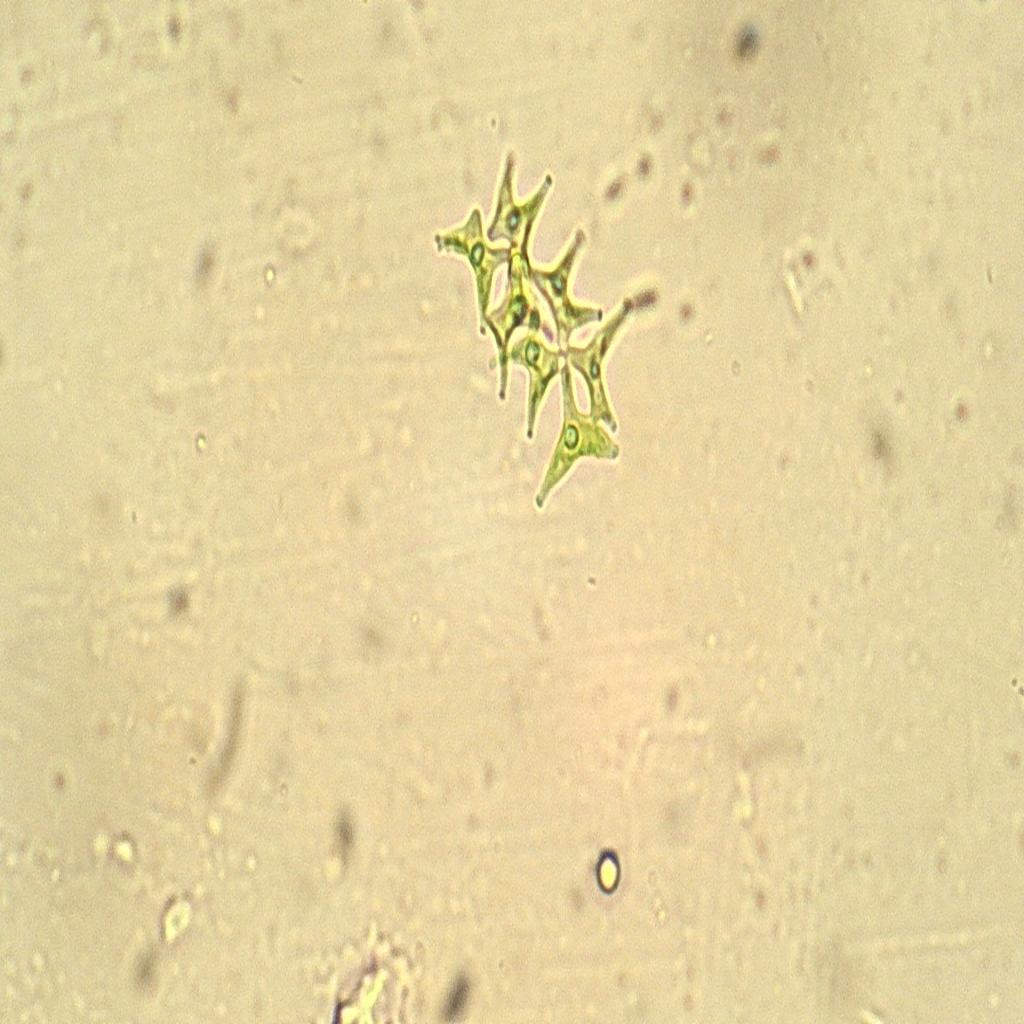Pediastrum_1TH: (425, 144, 639, 522)
